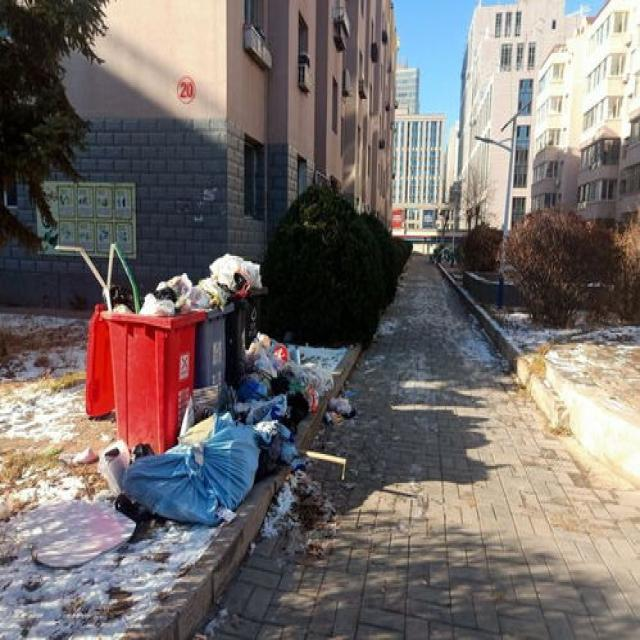garbage: (96, 329, 332, 526)
overflow: (83, 290, 204, 454), (208, 252, 268, 350), (194, 276, 234, 384)
